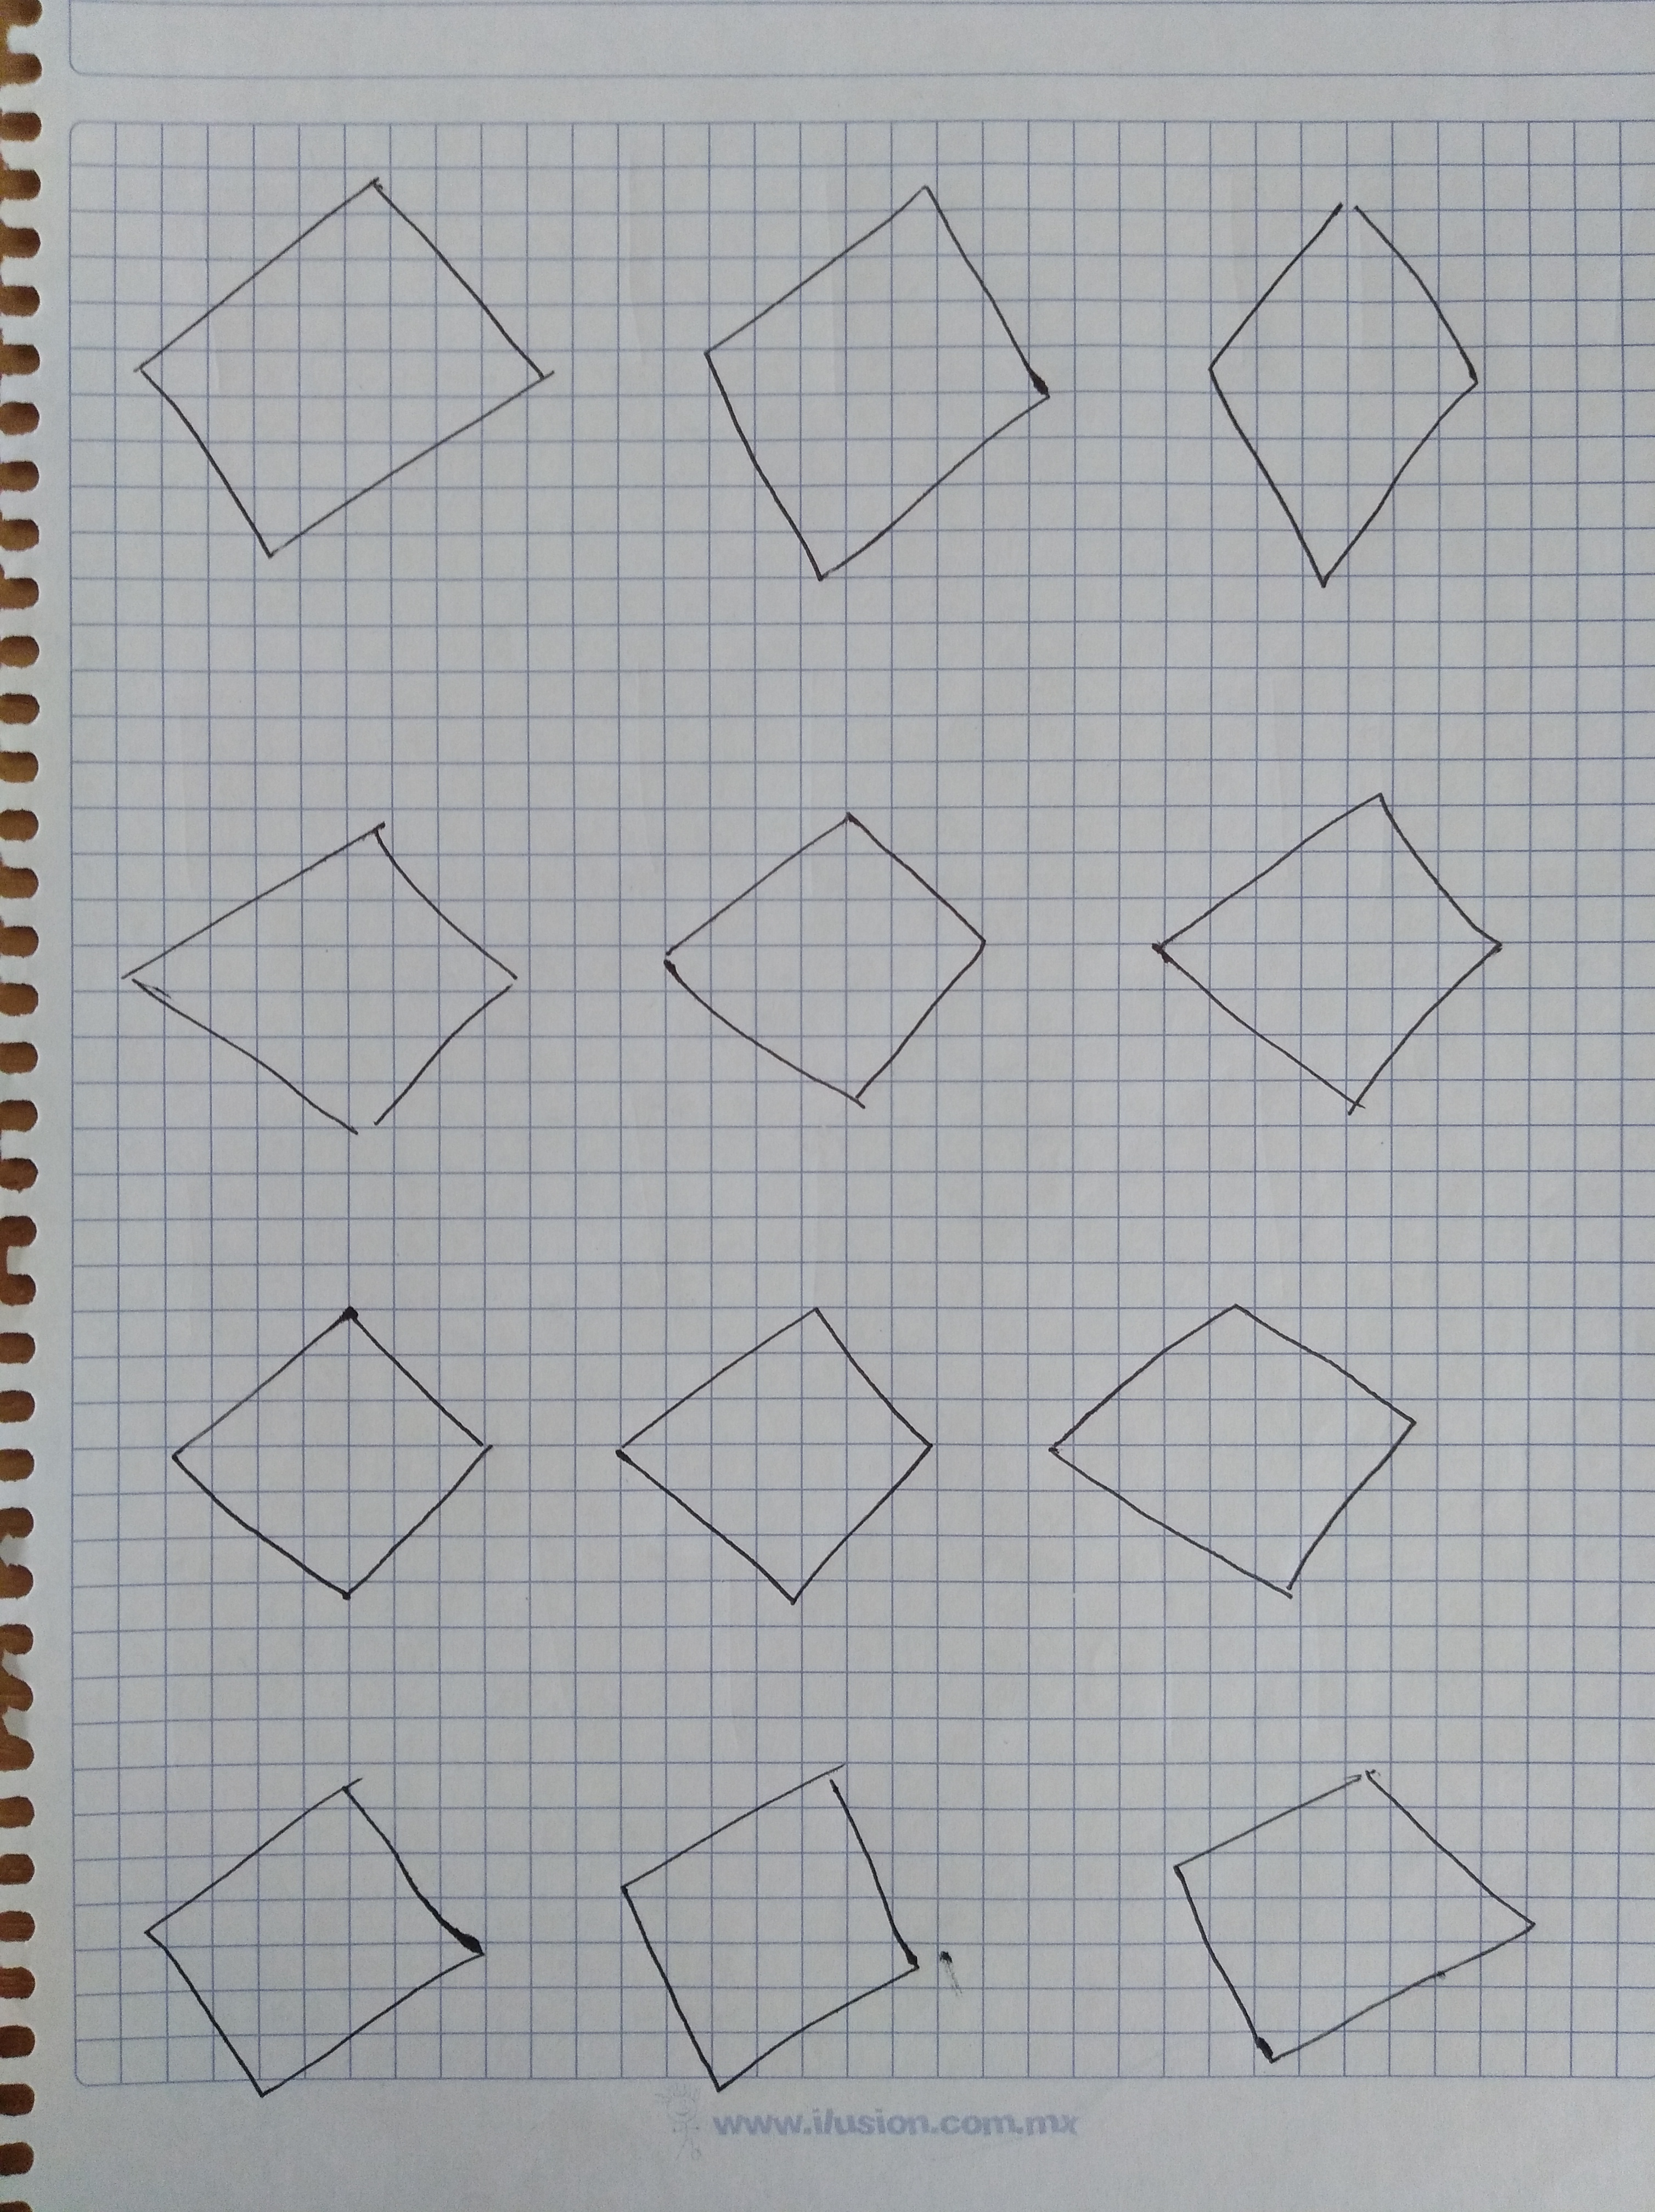decision: (96, 125, 600, 594), (678, 136, 1090, 612), (96, 763, 565, 1178), (1123, 749, 1563, 1150), (108, 1743, 520, 2134), (1017, 1267, 1446, 1637), (132, 1253, 541, 1633), (1182, 156, 1511, 619), (1132, 1725, 1556, 2078), (582, 1267, 970, 1633), (640, 770, 1024, 1136), (600, 1732, 932, 2111)
